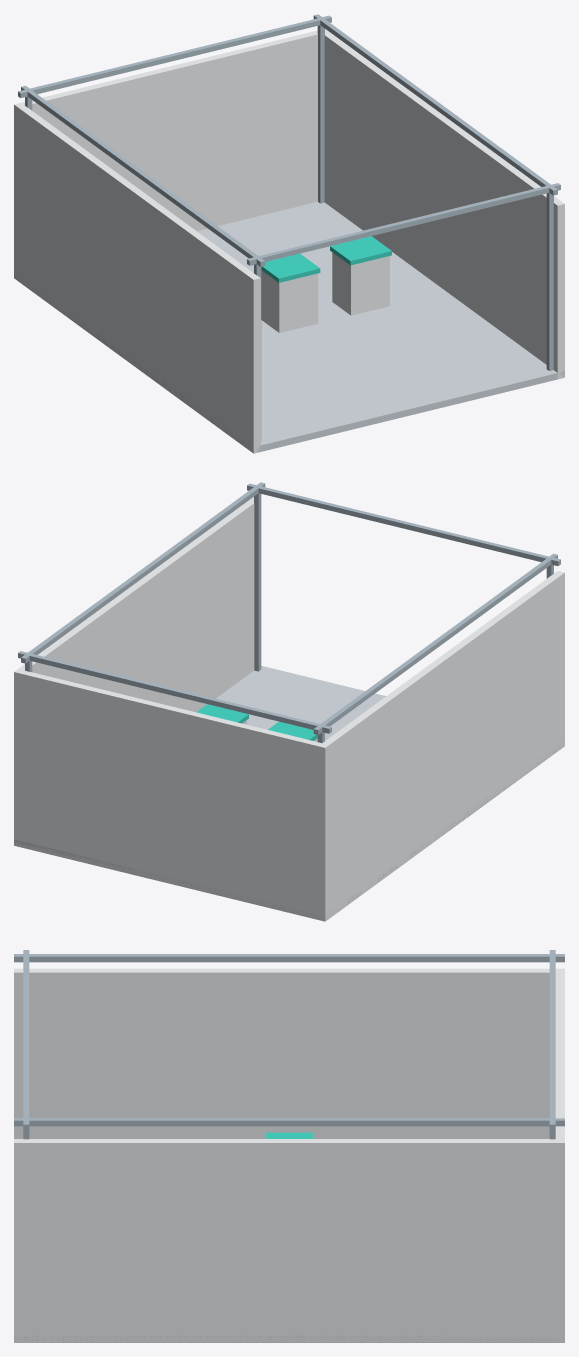
3 views of the same model, one above another, from view 1: azimuth 30°, elevation 25°; view 2: azimuth 150°, elevation 25°; view 3: azimuth 270°, elevation 25° (orthographic). The views are drawn at different scales.
Parts seen in each view (by area): view 1: Exhibition Booth Concept; view 2: Exhibition Booth Concept; view 3: Exhibition Booth Concept.
Boxes of the visible parts, x1,y1,x2,y2 form: Exhibition Booth Concept: (14,14,564,453); Exhibition Booth Concept: (14,482,564,921); Exhibition Booth Concept: (14,950,564,1342).
Bounding box in the file's own units: 6 × 3.49 × 8.
